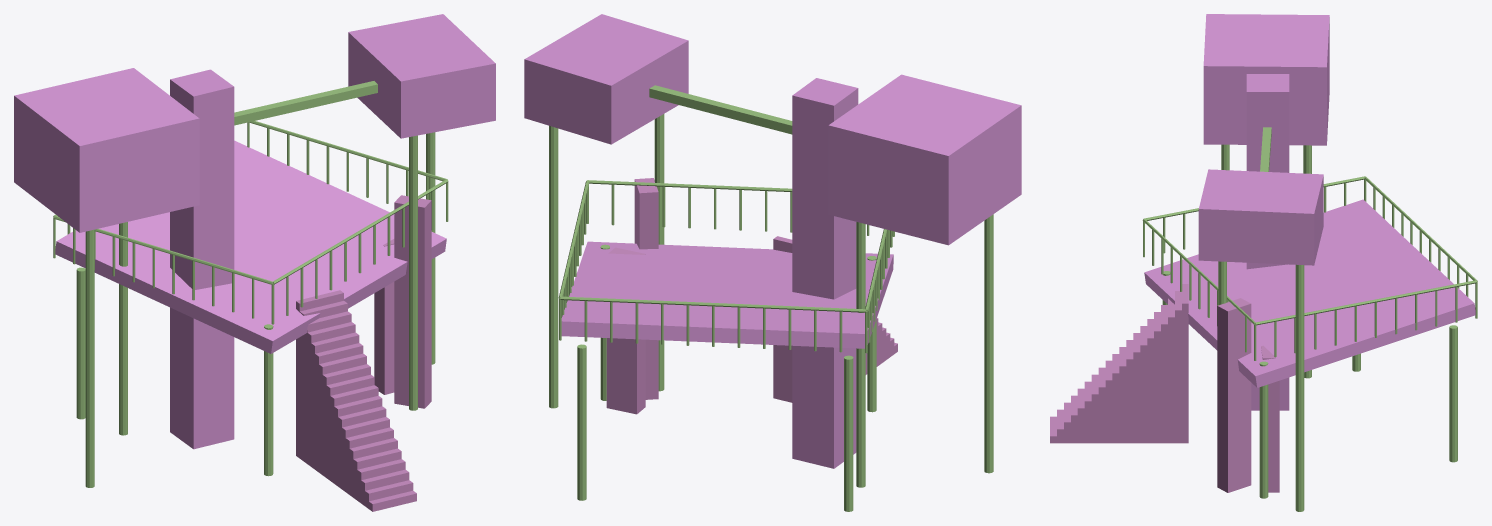
Rendered from folie_tag_150.glb.
3 views of the same model, side by side, from view 1: azimuth 30°, elevation 25°; view 2: azimuth 150°, elevation 25°; view 3: azimuth 270°, elevation 25° (orthographic). The views are drawn at different scales.
Visible parts, largest first — view 1: folie_tag_150_00_plate, folie_tag_150_01_block, folie_tag_150_line, folie_tag_150_core, folie_tag_150_stairs, folie_tag_150_02_block, folie_tag_150_03_fin, folie_tag_150_04_fin; view 2: folie_tag_150_01_block, folie_tag_150_00_plate, folie_tag_150_line, folie_tag_150_core, folie_tag_150_02_block, folie_tag_150_04_fin, folie_tag_150_03_fin, folie_tag_150_stairs; view 3: folie_tag_150_00_plate, folie_tag_150_01_block, folie_tag_150_stairs, folie_tag_150_line, folie_tag_150_02_block, folie_tag_150_03_fin, folie_tag_150_core, folie_tag_150_04_fin.
Boxes of the visible parts, x1,y1,x2,y2 form: folie_tag_150_00_plate: [55, 140, 446, 353]; folie_tag_150_01_block: [14, 68, 199, 232]; folie_tag_150_line: [53, 81, 448, 487]; folie_tag_150_core: [170, 69, 234, 449]; folie_tag_150_stairs: [296, 290, 416, 511]; folie_tag_150_02_block: [348, 14, 495, 138]; folie_tag_150_03_fin: [394, 195, 431, 408]; folie_tag_150_04_fin: [374, 239, 394, 394]; folie_tag_150_01_block: [828, 74, 1021, 245]; folie_tag_150_00_plate: [561, 241, 893, 348]; folie_tag_150_line: [549, 85, 993, 511]; folie_tag_150_core: [792, 78, 858, 468]; folie_tag_150_02_block: [524, 14, 688, 144]; folie_tag_150_04_fin: [606, 247, 645, 414]; folie_tag_150_03_fin: [634, 178, 658, 399]; folie_tag_150_stairs: [773, 236, 897, 402]; folie_tag_150_00_plate: [1144, 199, 1475, 387]; folie_tag_150_01_block: [1203, 14, 1329, 145]; folie_tag_150_stairs: [1050, 284, 1188, 443]; folie_tag_150_line: [1142, 127, 1477, 511]; folie_tag_150_02_block: [1198, 169, 1323, 265]; folie_tag_150_03_fin: [1217, 298, 1251, 492]; folie_tag_150_core: [1246, 74, 1289, 410]; folie_tag_150_04_fin: [1261, 345, 1279, 492].
Size of the model in its own units: 11.45 by 9.12 by 11.1.
